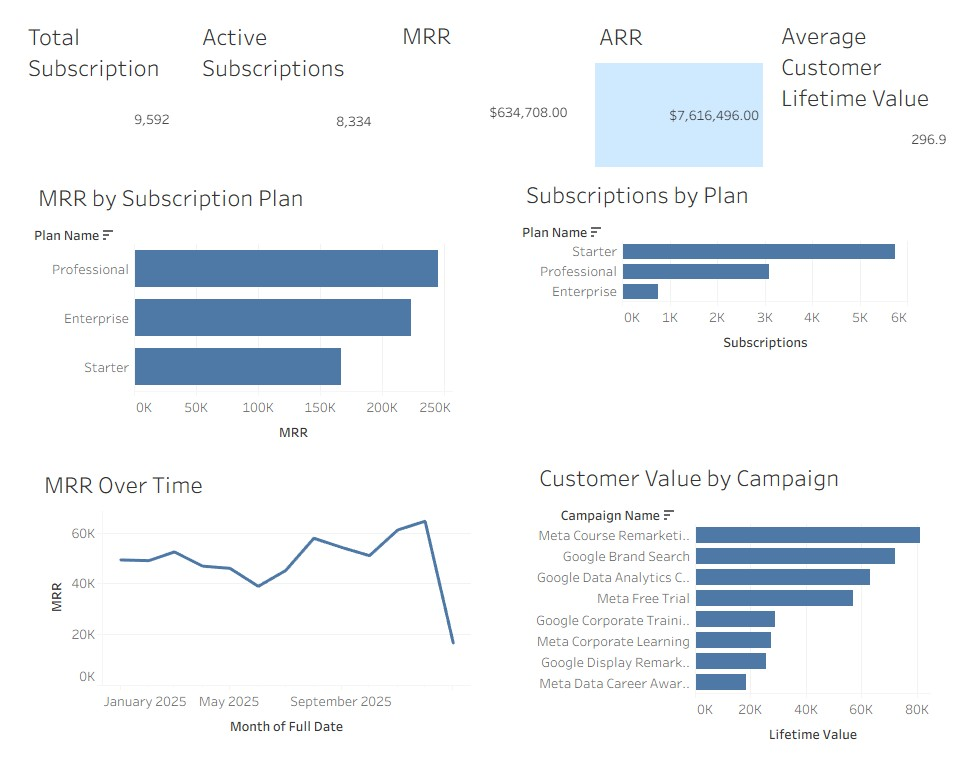

This screenshot's page, from the dashboard's own definition file:
{"tool":"tableau","page":{"name":"Subscription & Customer Value(d3)","canvas":[1000,800],"ordinal":3},"visuals":[{"type":"worksheet","title":"MRR","mark":"Automatic","box":[405,25,173,145]},{"type":"worksheet","title":"Average Customer Lifetime Value","mark":"Automatic","box":[784,25,173,138]},{"type":"worksheet","title":"Total Subscriptions","mark":"Automatic","box":[31,26,149,127]},{"type":"worksheet","title":"Active Subscriptions","mark":"Automatic","box":[205,26,177,131]},{"type":"worksheet","title":"ARR","mark":"Automatic","box":[602,26,168,150]},{"type":"worksheet","title":"Subscriptions by Plan","mark":"Bar","rows":["PLAN_NAME"],"cols":["SUBSCRIPTIONS"],"box":[529,184,387,280]},{"type":"worksheet","title":"MRR by Subscription Plan","mark":"Bar","rows":["PLAN_NAME"],"cols":["MRR"],"box":[41,187,419,270]},{"type":"worksheet","title":"Customer Value by Campaign","mark":"Automatic","rows":["CAMPAIGN_NAME"],"cols":["LIFETIME_VALUE"],"box":[542,467,396,292]},{"type":"worksheet","title":"MRR Over Time","mark":"Line","rows":["MRR"],"cols":["FULL_DATE"],"box":[47,474,431,277]}]}

Visuals, with their boxes in screenshot pixels (x1, y1, x2, y2), scaled from the page's 1000x800 canvas onto the 955x764 screenshot:
"MRR" worksheet: <bbox>387, 24, 552, 162</bbox>
"Average Customer Lifetime Value" worksheet: <bbox>749, 24, 914, 156</bbox>
"Total Subscriptions" worksheet: <bbox>30, 25, 172, 146</bbox>
"Active Subscriptions" worksheet: <bbox>196, 25, 365, 150</bbox>
"ARR" worksheet: <bbox>575, 25, 735, 168</bbox>
"Subscriptions by Plan" worksheet (Bar marks): <bbox>505, 176, 875, 443</bbox>
"MRR by Subscription Plan" worksheet (Bar marks): <bbox>39, 179, 439, 436</bbox>
"Customer Value by Campaign" worksheet: <bbox>518, 446, 896, 725</bbox>
"MRR Over Time" worksheet (Line marks): <bbox>45, 453, 456, 717</bbox>
